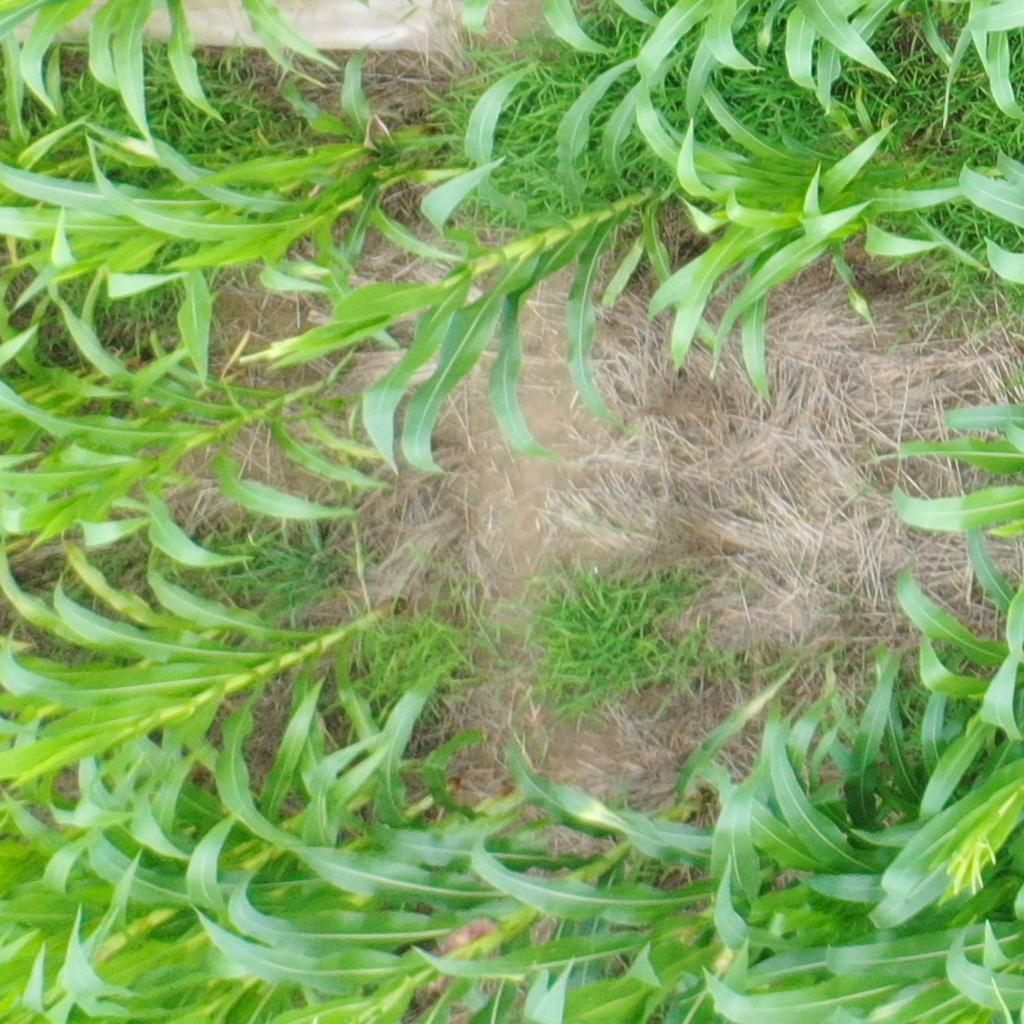Tassel: (943, 830, 1000, 896), (230, 334, 302, 366)
